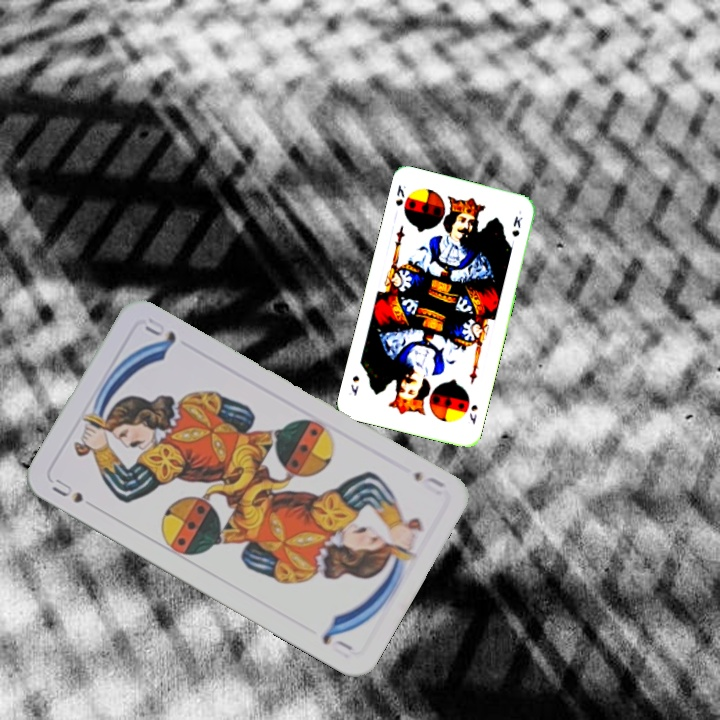SK: (391, 181, 408, 208), (465, 400, 480, 427)
SU: (48, 474, 86, 506), (410, 467, 447, 498)
